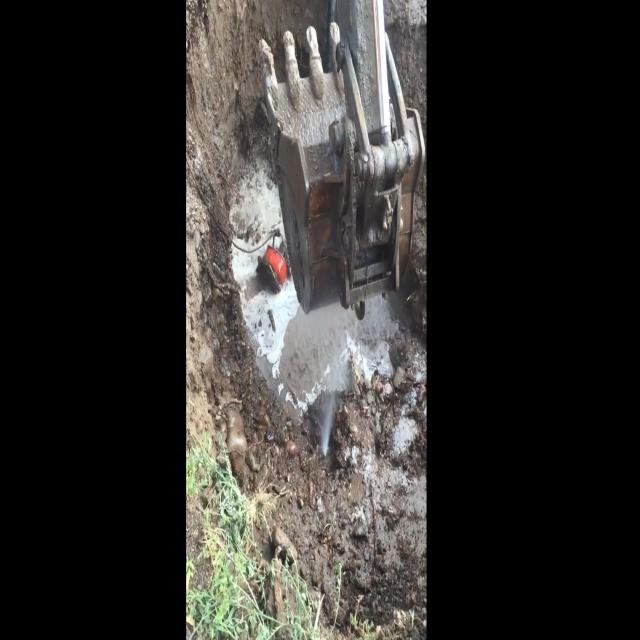leak: (316, 351, 352, 462)
